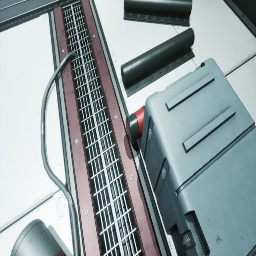FireExtinguisher ]: (125, 105, 145, 144)
NitrogenTank ,: (10, 219, 67, 256)
